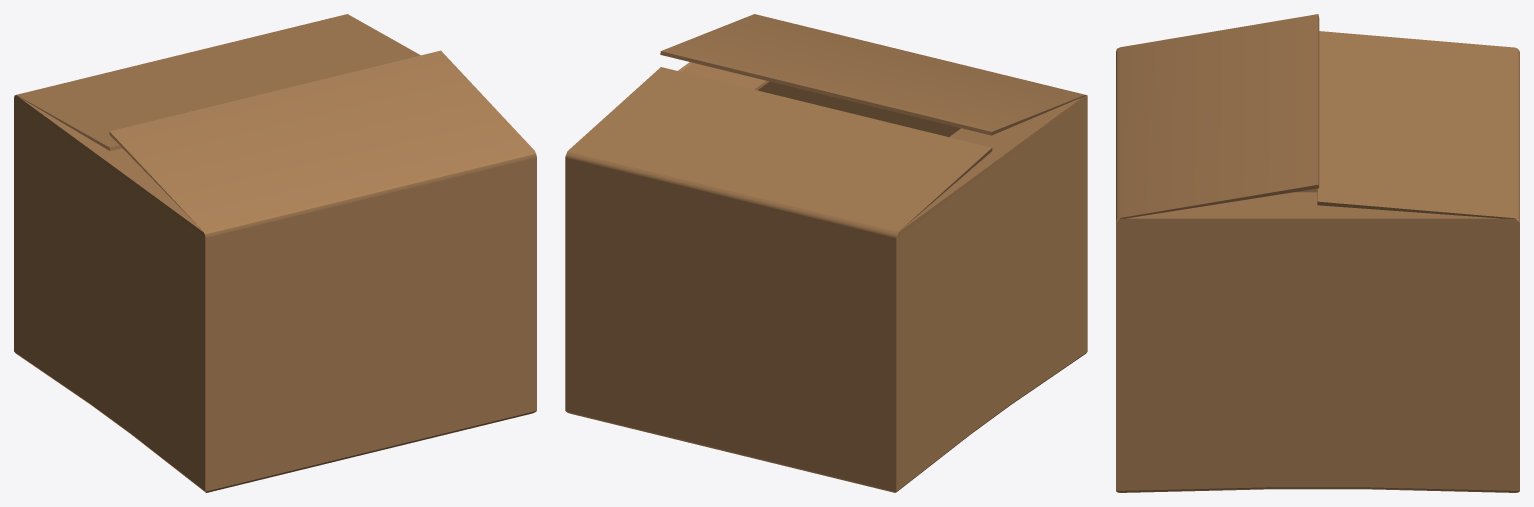
File: TileCardboardBox.fbx
3 renders of one model, left to right at view 1: azimuth 30°, elevation 25°; view 2: azimuth 150°, elevation 25°; view 3: azimuth 270°, elevation 25°, orthographic. The views are drawn at different scales.
Visible parts, largest first — view 1: Cube; view 2: Cube; view 3: Cube.
Boxes of the visible parts, x1,y1,x2,y2 form: Cube: [14, 14, 536, 492]; Cube: [565, 14, 1087, 492]; Cube: [1116, 14, 1519, 492].
Size of the model in its own units: 1 by 0.8467 by 1.
